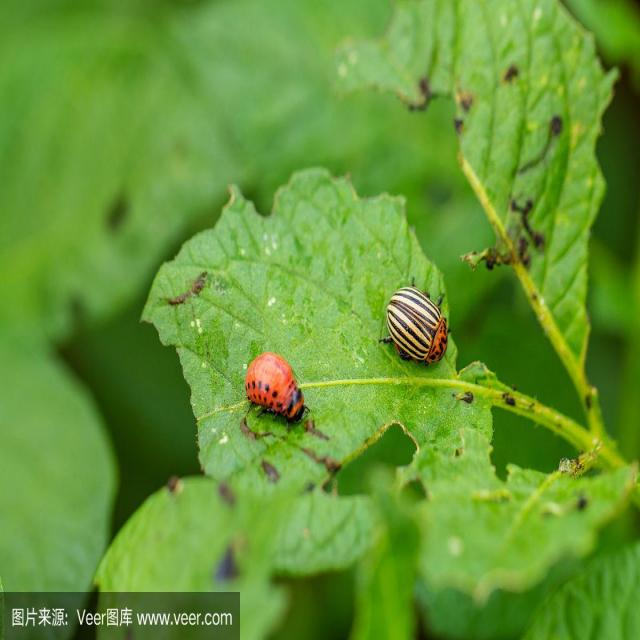ShuCaiHuaBanChong-Grown-: (374, 277, 460, 370)
ShuCaiHuaBanChong-Larva-: (230, 335, 314, 427)
